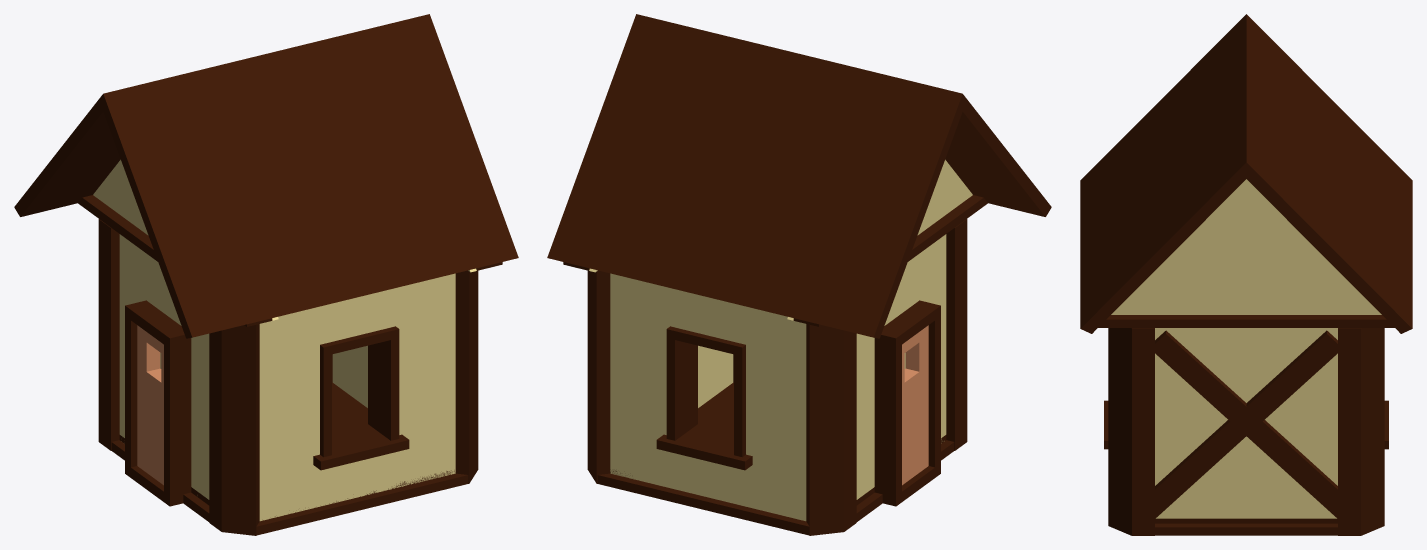
The model's file is BasicHouse.fbx.
3 views of the same model, side by side, from view 1: azimuth 30°, elevation 25°; view 2: azimuth 150°, elevation 25°; view 3: azimuth 270°, elevation 25° (orthographic). The views are drawn at different scales.
Visible parts, largest first — view 1: wall_windowWood%_51, roof_overhang_89, wall_border_60, roof_overhang_74, roof_overhang_86, roof_overhang_88, roof_overhang_87, roof_overhang_85, door_square_48, roof_overhang_84, wall_straight_45, roof_overhang_90 (+7 smaller); view 2: wall_windowWood%_52, roof_overhang_89, wall_border_60, roof_overhang_74, roof_overhang_86, roof_overhang_88, roof_overhang_85, door_square_48, roof_overhang_84, roof_overhang_87, wall_straight_45, roof_overhang_90 (+7 smaller); view 3: wall_straight_44, wall_border_59, roof_default_75, roof_overhang_90, roof_overhang_89, roof_overhang_87, roof_overhang_88, roof_overhang_84, roof_overhang_74, roof_overhang_85, roof_overhang_86, block_default_68 (+7 smaller).
Part boxes in pixels (x1=…): wall_windowWood%_51: x1=259, y1=273, x2=455, y2=521; roof_overhang_89: x1=14, y1=82, x2=241, y2=338; wall_border_60: x1=98, y1=219, x2=259, y2=535; roof_overhang_74: x1=359, y1=19, x2=497, y2=274; roof_overhang_86: x1=231, y1=52, x2=369, y2=306; roof_overhang_88: x1=63, y1=73, x2=281, y2=326; roof_overhang_87: x1=188, y1=61, x2=326, y2=316; roof_overhang_85: x1=274, y1=42, x2=411, y2=295; door_square_48: x1=125, y1=300, x2=191, y2=506; roof_overhang_84: x1=316, y1=31, x2=452, y2=285; wall_straight_45: x1=119, y1=234, x2=209, y2=499; roof_overhang_90: x1=408, y1=14, x2=518, y2=262; wall_windowWood%_52: x1=610, y1=273, x2=806, y2=521; roof_overhang_89: x1=824, y1=83, x2=1051, y2=338; wall_border_60: x1=806, y1=219, x2=967, y2=535; roof_overhang_74: x1=568, y1=19, x2=706, y2=275; roof_overhang_86: x1=696, y1=51, x2=834, y2=306; roof_overhang_88: x1=788, y1=73, x2=1002, y2=326; roof_overhang_85: x1=654, y1=40, x2=791, y2=295; door_square_48: x1=874, y1=300, x2=940, y2=506; roof_overhang_84: x1=618, y1=30, x2=749, y2=285; roof_overhang_87: x1=742, y1=61, x2=877, y2=316; wall_straight_45: x1=856, y1=234, x2=946, y2=499; roof_overhang_90: x1=547, y1=14, x2=683, y2=267; wall_straight_44: x1=1155, y1=328, x2=1337, y2=518; wall_border_59: x1=1108, y1=328, x2=1384, y2=535; roof_default_75: x1=1111, y1=179, x2=1381, y2=314; roof_overhang_90: x1=1080, y1=141, x2=1412, y2=333; roof_overhang_89: x1=1080, y1=14, x2=1412, y2=202; roof_overhang_87: x1=1080, y1=53, x2=1412, y2=241; roof_overhang_88: x1=1080, y1=33, x2=1412, y2=221; roof_overhang_84: x1=1080, y1=111, x2=1412, y2=299; roof_overhang_74: x1=1080, y1=131, x2=1412, y2=318; roof_overhang_85: x1=1080, y1=91, x2=1412, y2=279; roof_overhang_86: x1=1080, y1=75, x2=1412, y2=260; block_default_68: x1=1155, y1=330, x2=1310, y2=480.
Bounding box in the file's own units: 15.33 × 18.27 × 14.49.
